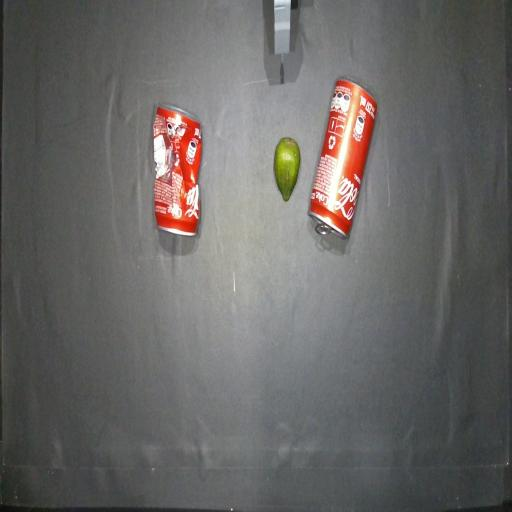higo: (274, 137, 300, 201)
lata: (308, 79, 377, 238)
lata_defectuoso: (154, 106, 202, 235)
